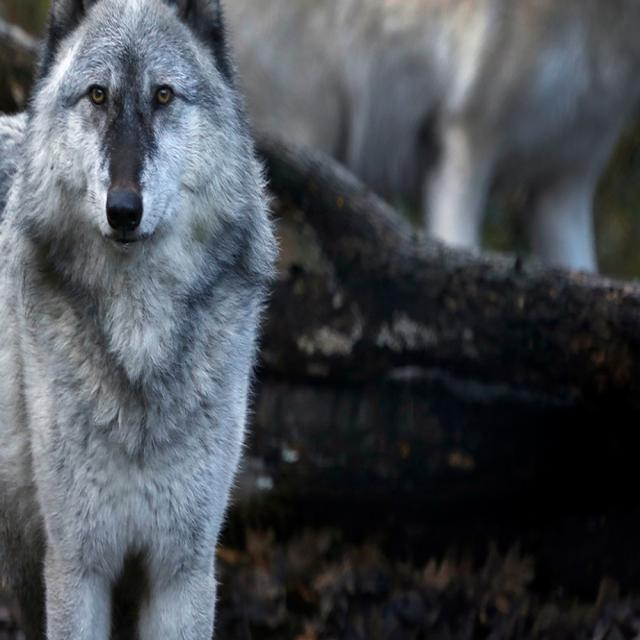wolf: (0, 0, 284, 640), (179, 0, 640, 291)
